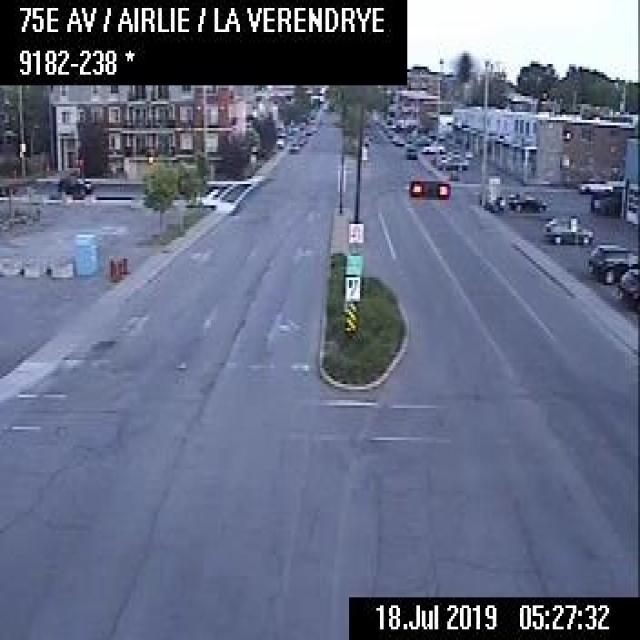construction: (108, 256, 113, 278), (117, 255, 122, 276), (113, 258, 118, 279), (122, 255, 127, 272)
vehicle: (584, 240, 638, 284), (541, 210, 592, 245), (506, 188, 546, 213), (54, 170, 92, 195), (615, 264, 638, 300), (576, 173, 611, 195), (436, 151, 467, 171), (420, 137, 444, 152), (405, 143, 418, 160), (286, 141, 298, 152), (392, 134, 403, 145), (303, 125, 311, 134)
